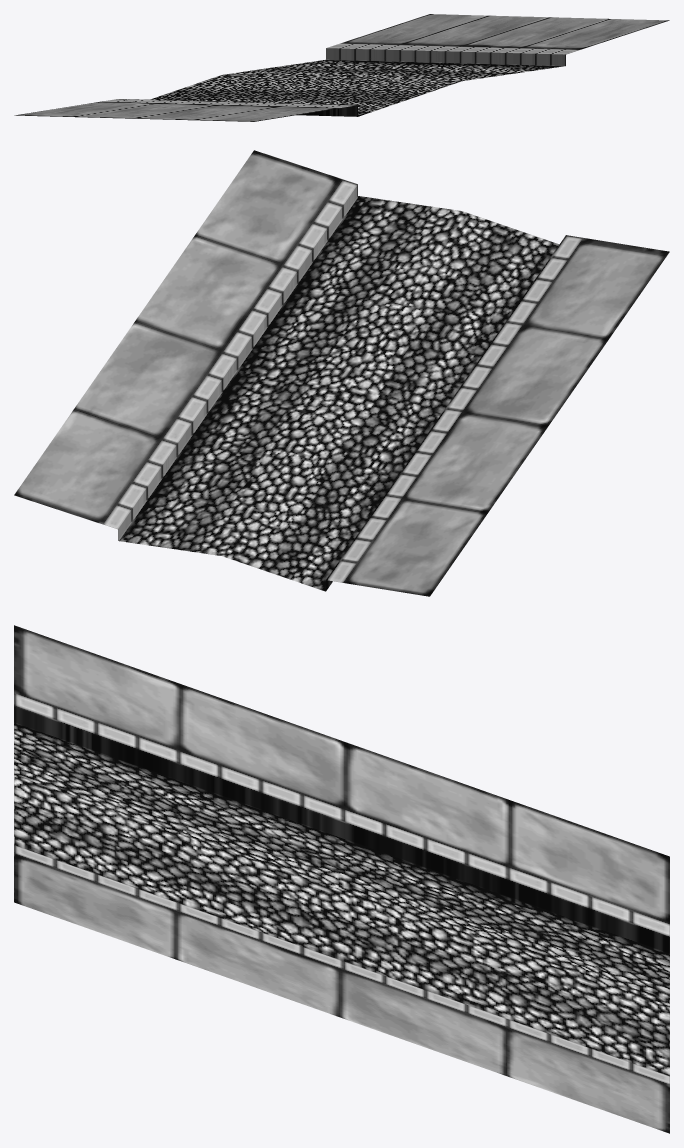
The model's file is street_Straße_Gerade1Schräg_26.glb.
3 views of the same model, one above another, from view 1: azimuth 30°, elevation 25°; view 2: azimuth 150°, elevation 25°; view 3: azimuth 270°, elevation 25° (orthographic). The views are drawn at different scales.
Parts seen in each view (by area): view 1: pPlaneShape171; view 2: pPlaneShape171; view 3: pPlaneShape171.
Boxes of the visible parts, x1,y1,x2,y2 form: pPlaneShape171: [14, 14, 669, 121]; pPlaneShape171: [14, 150, 669, 596]; pPlaneShape171: [14, 625, 669, 1133].
Size of the model in its own units: 1 by 0.4358 by 1.
1 material, 1 textured.
